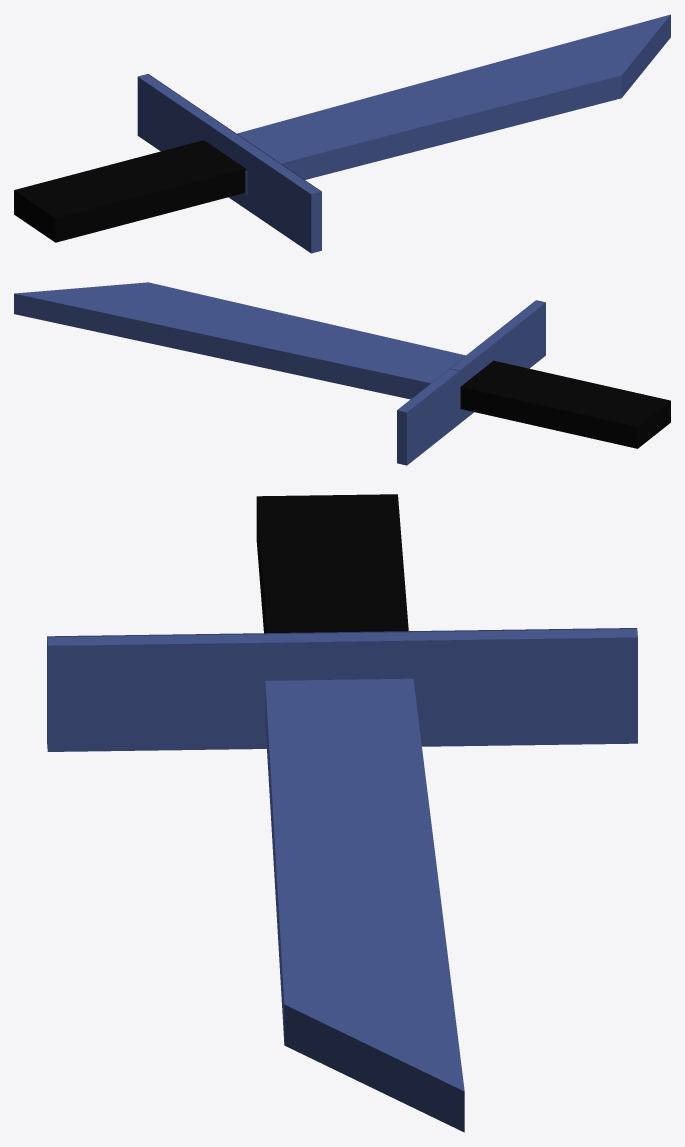
Rendered from knife2.fbx.
3 views of the same model, one above another, from view 1: azimuth 30°, elevation 25°; view 2: azimuth 150°, elevation 25°; view 3: azimuth 270°, elevation 25° (orthographic). The views are drawn at different scales.
Visible parts, largest first — view 1: pasted__knife, pasted__knifecontroller; view 2: pasted__knife, pasted__knifecontroller; view 3: pasted__knife, pasted__knifecontroller.
Boxes of the visible parts, x1,y1,x2,y2 form: pasted__knife: [137, 14, 670, 253]; pasted__knifecontroller: [14, 140, 245, 242]; pasted__knife: [14, 282, 545, 465]; pasted__knifecontroller: [460, 360, 670, 448]; pasted__knife: [47, 628, 637, 1132]; pasted__knifecontroller: [256, 494, 408, 633].
Size of the model in its own units: 3.51 by 0.2932 by 1.48.
